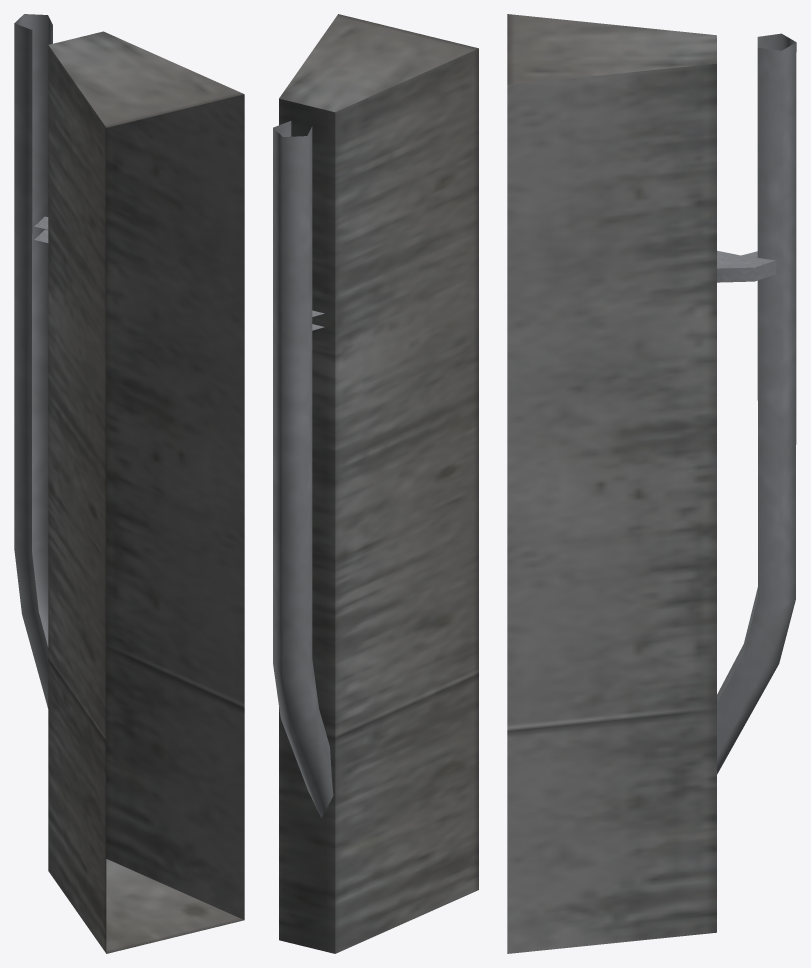
Rendered from cpb-end-2_lod.fbx.
3 renders of one model, left to right at view 1: azimuth 30°, elevation 25°; view 2: azimuth 150°, elevation 25°; view 3: azimuth 270°, elevation 25°, orthographic. The views are drawn at different scales.
Parts seen in each view (by area): view 1: cpb-end-2-lod; view 2: cpb-end-2-lod; view 3: cpb-end-2-lod.
Boxes of the visible parts, left/top/right/bottom form: cpb-end-2-lod: left=14, top=14, right=244, bottom=953; cpb-end-2-lod: left=273, top=14, right=478, bottom=953; cpb-end-2-lod: left=507, top=14, right=796, bottom=953.
Size of the model in its own units: 70 by 400 by 121.
